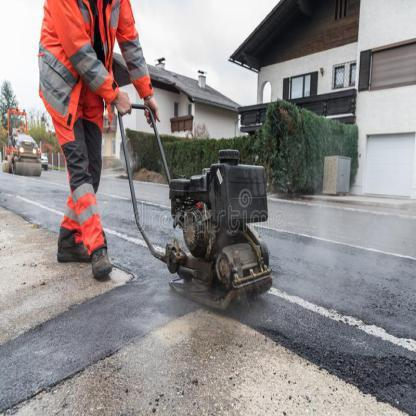bota: (56, 242, 99, 264), (90, 246, 116, 281)
